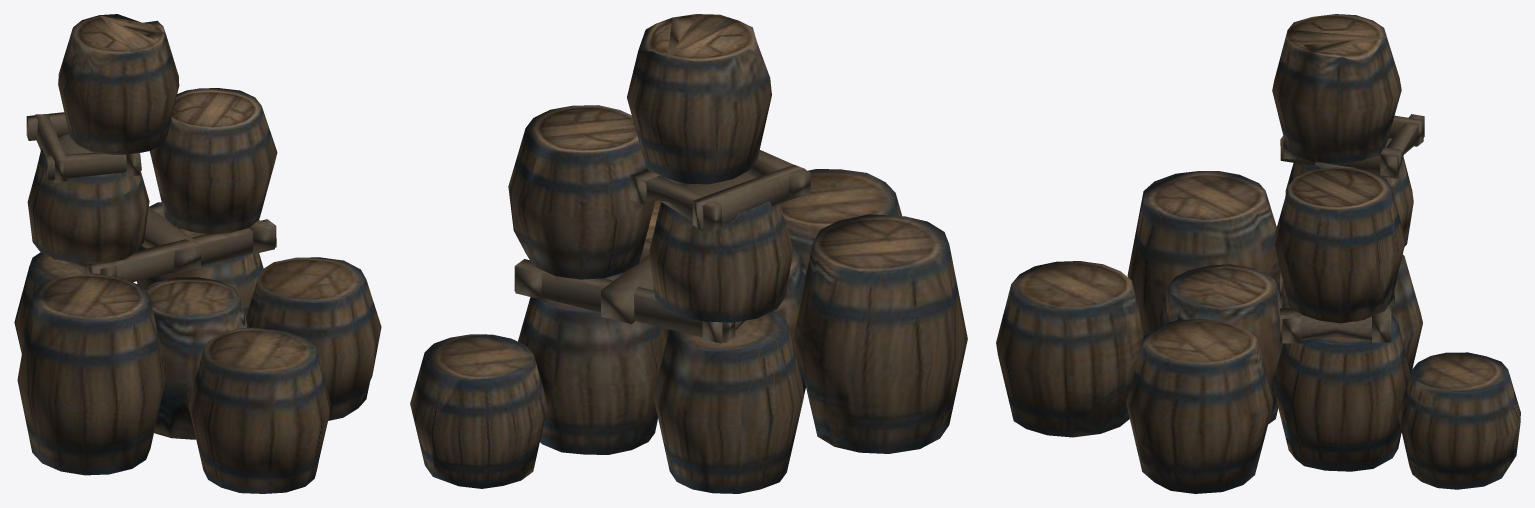
Rendered from world-barrels.glb.
3 views of the same model, side by side, from view 1: azimuth 30°, elevation 25°; view 2: azimuth 150°, elevation 25°; view 3: azimuth 270°, elevation 25° (orthographic). The views are drawn at different scales.
Size of the model in its own units: 1.52 by 1.5 by 1.93.
1 material, 1 textured.
